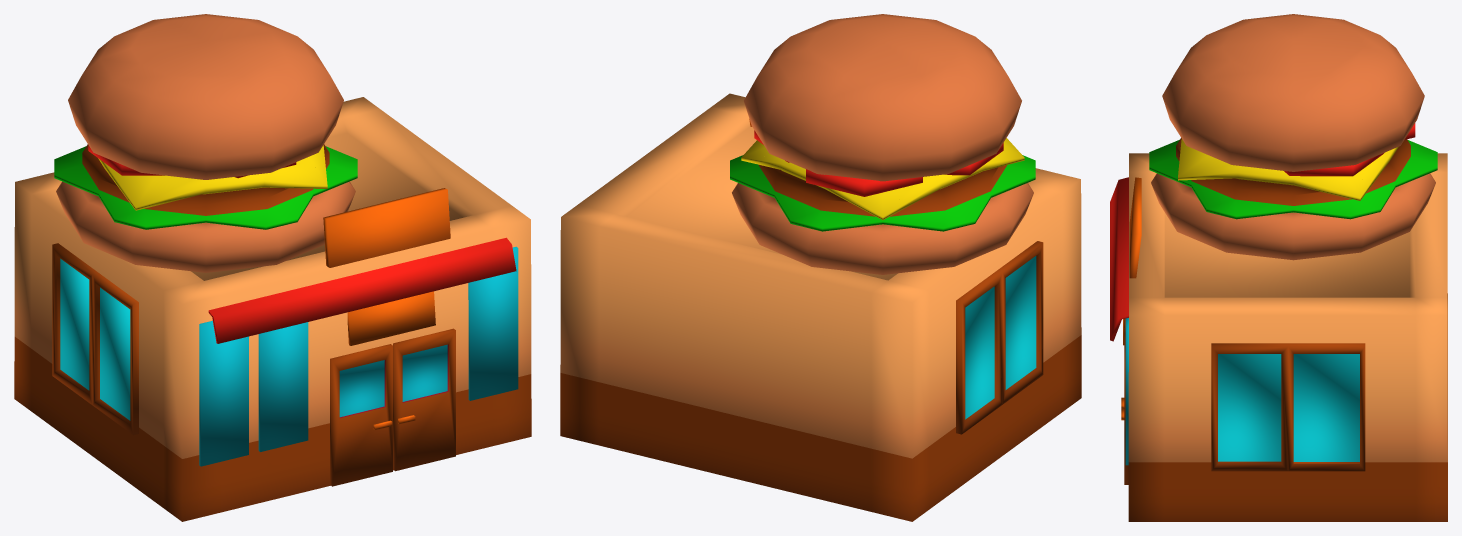
Rendered from HamburgerStore 1.fbx.
3 views of the same model, side by side, from view 1: azimuth 30°, elevation 25°; view 2: azimuth 150°, elevation 25°; view 3: azimuth 270°, elevation 25° (orthographic). The views are drawn at different scales.
Visible parts, largest first — view 1: HamburgerStore; view 2: HamburgerStore; view 3: HamburgerStore.
Part boxes in pixels (x1=…): HamburgerStore: x1=14, y1=14, x2=531, y2=521; HamburgerStore: x1=560, y1=14, x2=1081, y2=521; HamburgerStore: x1=1110, y1=14, x2=1447, y2=521.
Bounding box in the file's own units: 361 × 359 × 296.
